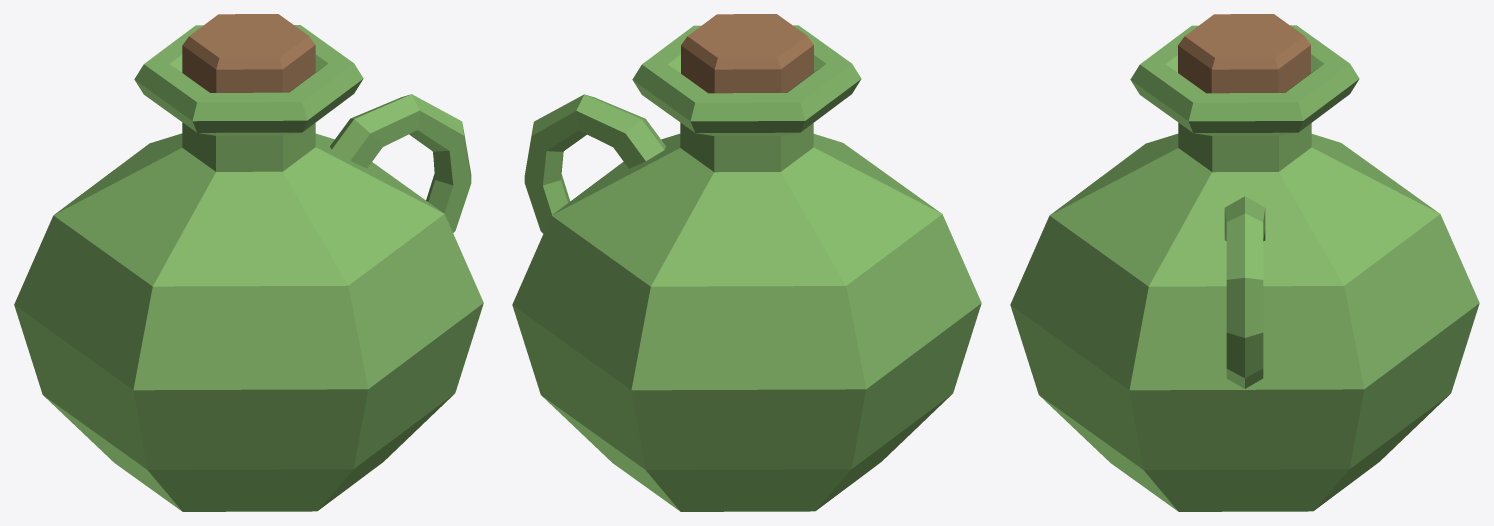
Rendered from Green_Potion_9(Handle).fbx.
3 views of the same model, side by side, from view 1: azimuth 30°, elevation 25°; view 2: azimuth 150°, elevation 25°; view 3: azimuth 270°, elevation 25° (orthographic).
Visible parts, largest first — view 1: Green_Potion_9(Handle); view 2: Green_Potion_9(Handle); view 3: Green_Potion_9(Handle).
Boxes of the visible parts, box(x1,y1,x2,y2) form: Green_Potion_9(Handle): box(14, 14, 483, 511); Green_Potion_9(Handle): box(512, 14, 981, 511); Green_Potion_9(Handle): box(1010, 14, 1479, 511).
Size of the model in its own units: 20.35 by 20.77 by 20.73.
